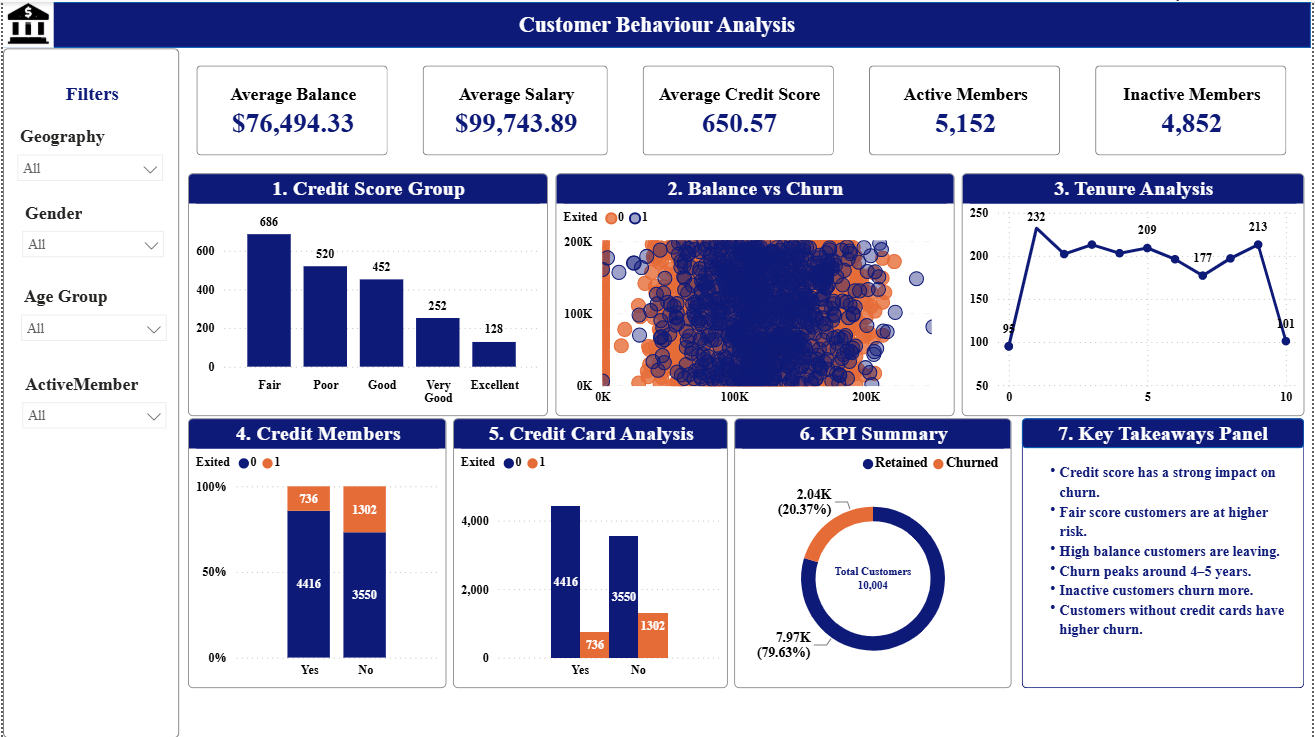

What the dashboard file says about the page in this screenshot:
{"tool":"powerbi","page":{"name":"Customer Behaviour Analysis","canvas":[1280,720],"ordinal":1},"visuals":[{"type":"shape","box":[0,0,1279.5,44.9],"z":0},{"type":"donutChart","title":"6. KPI Summary","fields":{"Y":["CountNonNull(Info.CustomerId)"],"Category":["Info.Churn Status"]},"box":[715.4,407.2,271.5,264.1],"z":0,"group":"g2"},{"type":"image","box":[0,0,50,44.9],"z":1000},{"type":"cardVisual","fields":{"Data":["Measures (2).total customers"]},"box":[801,539.3,100.3,50.1],"z":1000,"group":"g2"},{"type":"textbox","box":[462.8,5.1,355.1,34.6],"z":2000},{"type":"cardVisual","fields":{"Data":["Measures (2).Average Balance"]},"box":[172.6,45.2,221.3,122.3],"z":3000},{"type":"cardVisual","fields":{"Data":["Measures (2).Average Salary"]},"box":[394,45.2,215.2,122.3],"z":4000},{"type":"cardVisual","fields":{"Data":["Measures (2).Average Credit Score"]},"box":[609.2,45.2,221.3,122.3],"z":5000},{"type":"cardVisual","fields":{"Data":["CountNonNull(Info.Active Member)"]},"box":[830.5,45.2,221.3,122.3],"z":6000},{"type":"cardVisual","fields":{"Data":["Info.Inactive Members"]},"box":[1051.8,45.2,221.3,122.3],"z":7000},{"type":"shape","box":[0,45.2,172.4,675],"z":8000},{"type":"group","id":"g1","title":"Group 1","box":[3.7,74.6,166.3,346.1],"z":9000},{"type":"textbox","box":[12.3,74.6,150.4,31.8],"z":9000,"group":"g1"},{"type":"slicer","fields":{"Values":["Info.Customer_Info.Geography"]},"box":[3.7,117.4,162.6,61.1],"z":10000,"group":"g1"},{"type":"clusteredColumnChart","title":"1. Credit Score Group","fields":{"Category":["Info.Credit Score Group"],"Y":["Measures (2).Churned Customers"]},"box":[181,167.5,352.2,237.2],"z":10000},{"type":"scatterChart","title":"2. Balance vs Churn","fields":{"X":["Info.Balance"],"Y":["Info.EstimatedSalary"],"Series":["Info.Exited"]},"box":[540.5,167.5,390.1,237.2],"z":11000},{"type":"slicer","fields":{"Values":["Info.Customer_Info.Gender"]},"box":[8.6,192,159,66],"z":11000,"group":"g1"},{"type":"lineChart","title":"3. Tenure Analysis","fields":{"Category":["Info.Tenure"],"Y":["Measures (2).Churned Customers"]},"box":[937.9,167.5,335.1,237.2],"z":12000},{"type":"slicer","fields":{"Values":["Info.Age Group"]},"box":[7.4,273.9,162.6,61.1],"z":12000,"group":"g1"},{"type":"slicer","fields":{"Values":["Info.IsActiveMember"]},"box":[8.6,359.5,161.4,61.1],"z":13000,"group":"g1"},{"type":"hundredPercentStackedColumnChart","title":"4. Credit Members","fields":{"Category":["Info.IsActiveMember"],"Series":["Info.Exited"],"Y":["CountNonNull(Info.CustomerId)"]},"box":[181,407.2,253.1,264.1],"z":13000},{"type":"clusteredColumnChart","title":"5. Credit Card Analysis","fields":{"Category":["Info.HasCrCard"],"Y":["CountNonNull(Info.CustomerId)"],"Series":["Info.Exited"]},"box":[440.2,407.2,269,264.1],"z":14000},{"type":"group","id":"g2","title":"Group 2","box":[715.4,407.2,271.5,264.1],"z":15000},{"type":"shape","box":[996.6,407.2,276.4,264.1],"z":16000,"group":"g3"},{"type":"textbox","box":[1007.6,445.1,253.1,207.9],"z":17000,"group":"g3"},{"type":"shape","box":[996.6,407.2,276.4,29.3],"z":18000,"group":"g3"},{"type":"group","id":"g3","title":"Group 3","box":[996.6,407.2,276.4,264.1],"z":18001}]}

Visuals, with their boxes in screenshot pixels (x1, y1, x2, y2), scaled from the page's 1280x720 canvas onto the 1315x737 screenshot:
shape: <box>0,0,1314,46</box>
"6. KPI Summary" donutChart: <box>735,417,1014,687</box>
image: <box>0,0,51,46</box>
cardVisual - Measures (2).total customers: <box>823,552,926,603</box>
textbox: <box>475,5,840,41</box>
cardVisual - Measures (2).Average Balance: <box>177,46,405,171</box>
cardVisual - Measures (2).Average Salary: <box>405,46,626,171</box>
cardVisual - Measures (2).Average Credit Score: <box>626,46,853,171</box>
cardVisual - CountNonNull(Info.Active Member): <box>853,46,1081,171</box>
cardVisual - Info.Inactive Members: <box>1081,46,1308,171</box>
shape: <box>0,46,177,736</box>
"Group 1" group: <box>4,76,175,431</box>
textbox: <box>13,76,167,109</box>
slicer - Info.Customer_Info.Geography: <box>4,120,171,183</box>
"1. Credit Score Group" clusteredColumnChart: <box>186,171,548,414</box>
"2. Balance vs Churn" scatterChart: <box>555,171,956,414</box>
slicer - Info.Customer_Info.Gender: <box>9,197,172,264</box>
"3. Tenure Analysis" lineChart: <box>964,171,1308,414</box>
slicer - Info.Age Group: <box>8,280,175,343</box>
slicer - Info.IsActiveMember: <box>9,368,175,431</box>
"4. Credit Members" hundredPercentStackedColumnChart: <box>186,417,446,687</box>
"5. Credit Card Analysis" clusteredColumnChart: <box>452,417,729,687</box>
"Group 2" group: <box>735,417,1014,687</box>
shape: <box>1024,417,1308,687</box>
textbox: <box>1035,456,1295,668</box>
shape: <box>1024,417,1308,447</box>
"Group 3" group: <box>1024,417,1308,687</box>
